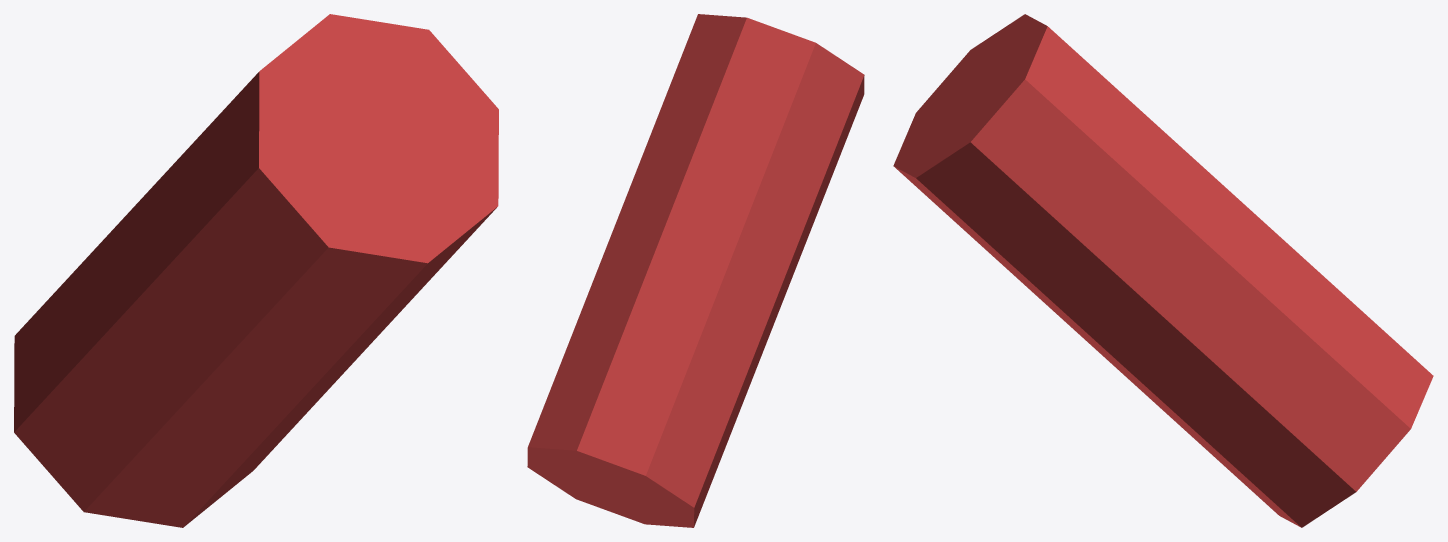
File: mat_plastic_antennatip.glb
3 views of the same model, side by side, from view 1: azimuth 30°, elevation 25°; view 2: azimuth 150°, elevation 25°; view 3: azimuth 270°, elevation 25° (orthographic). The views are drawn at different scales.
Visible parts, largest first — view 1: geometry_0; view 2: geometry_0; view 3: geometry_0.
Part boxes in pixels (x1,y1,x2,y2): geometry_0: [14, 14, 498, 527]; geometry_0: [527, 14, 864, 527]; geometry_0: [893, 14, 1433, 527].
Size of the model in its own units: 0.004 by 0.0099 by 0.0099.
